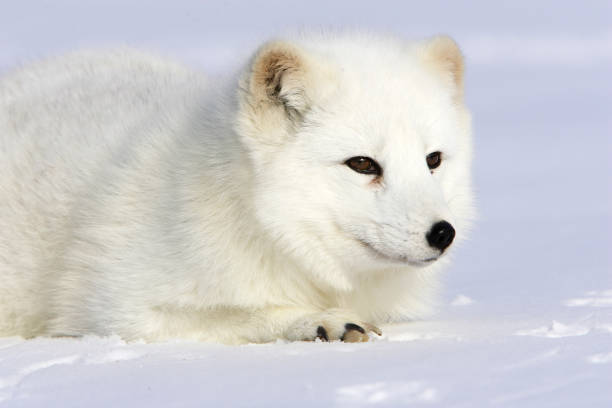arcticfox: (290, 64, 449, 289)
